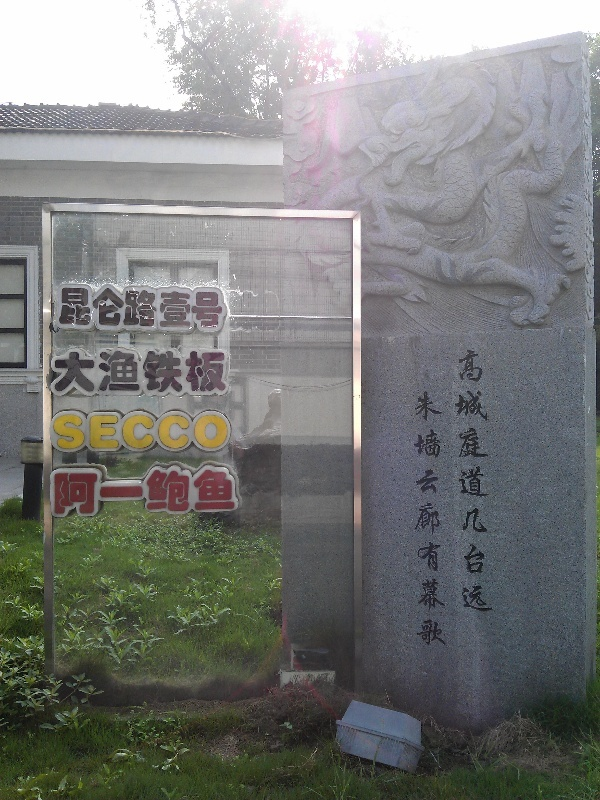text: (465, 346, 480, 618), (417, 390, 432, 648), (433, 390, 448, 648), (481, 346, 494, 618), (453, 346, 464, 618), (65, 283, 80, 336), (81, 283, 96, 336), (97, 283, 112, 336), (113, 283, 128, 336), (129, 283, 144, 336), (145, 283, 160, 336), (161, 283, 176, 336), (177, 283, 192, 336), (193, 283, 208, 336), (209, 283, 224, 336), (65, 464, 80, 517), (81, 464, 96, 517), (97, 464, 112, 517), (113, 464, 128, 517), (129, 464, 144, 517), (145, 464, 160, 517), (161, 464, 176, 517), (177, 464, 192, 517), (193, 464, 208, 517), (209, 464, 224, 517), (413, 390, 416, 648), (50, 464, 64, 517), (225, 464, 239, 517), (65, 347, 80, 396), (81, 347, 96, 396), (97, 347, 112, 396), (113, 347, 128, 396), (129, 347, 144, 396), (145, 347, 160, 396), (161, 347, 176, 396), (177, 347, 192, 396), (193, 347, 208, 396), (209, 347, 224, 396), (50, 347, 64, 396), (49, 411, 64, 451), (65, 411, 80, 451), (81, 411, 96, 451), (97, 411, 112, 451), (113, 411, 128, 451), (129, 411, 144, 451), (145, 411, 160, 451), (161, 411, 176, 451), (177, 411, 192, 451), (193, 411, 208, 451), (209, 411, 224, 451), (57, 283, 64, 336), (225, 411, 233, 451), (225, 347, 230, 396), (225, 283, 229, 336)
